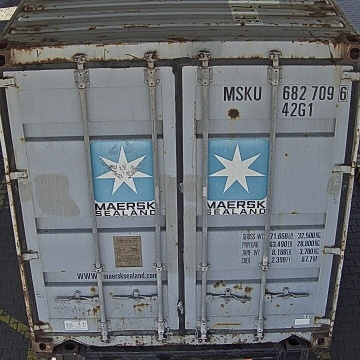serial_id: (223, 85, 347, 101)
